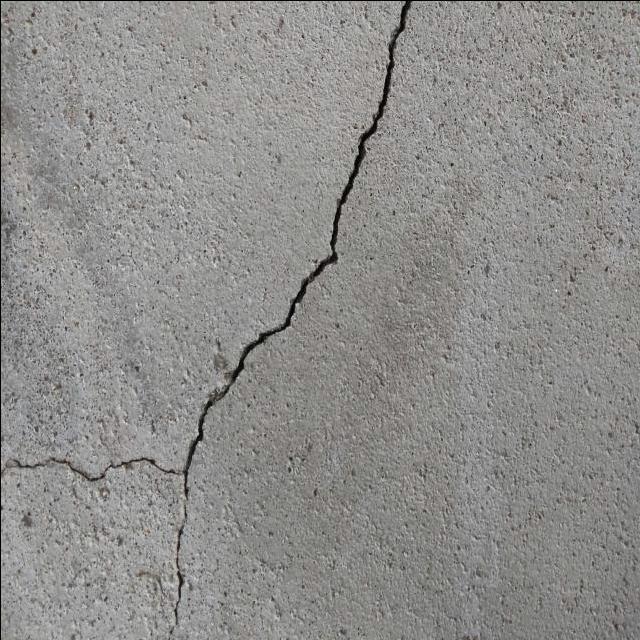SurfaceCrack: (14, 0, 459, 639)
